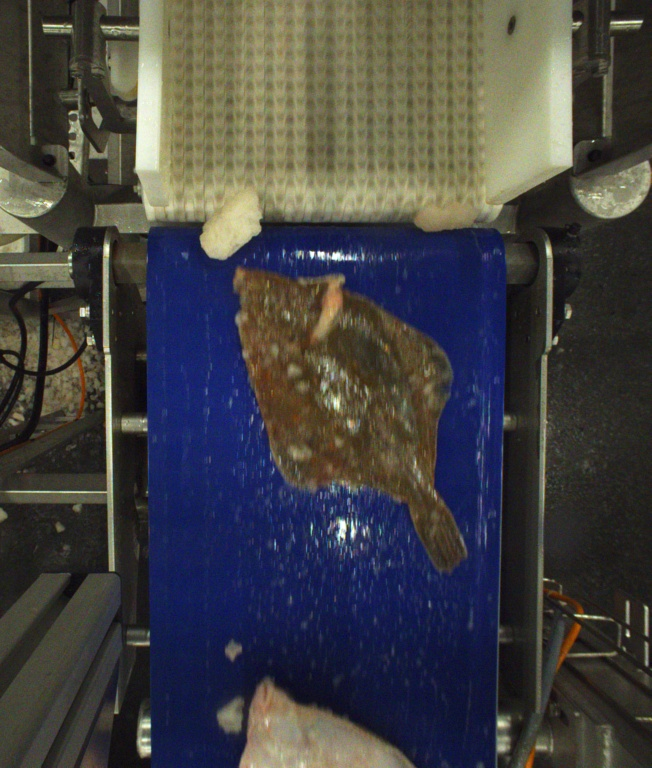PLE: (231, 269, 469, 579)
